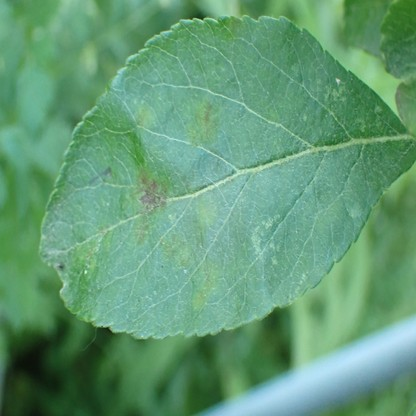scab: (127, 167, 172, 242), (73, 226, 111, 282), (185, 99, 221, 150), (194, 259, 219, 306), (160, 233, 192, 268), (194, 191, 216, 229), (136, 99, 153, 130)
